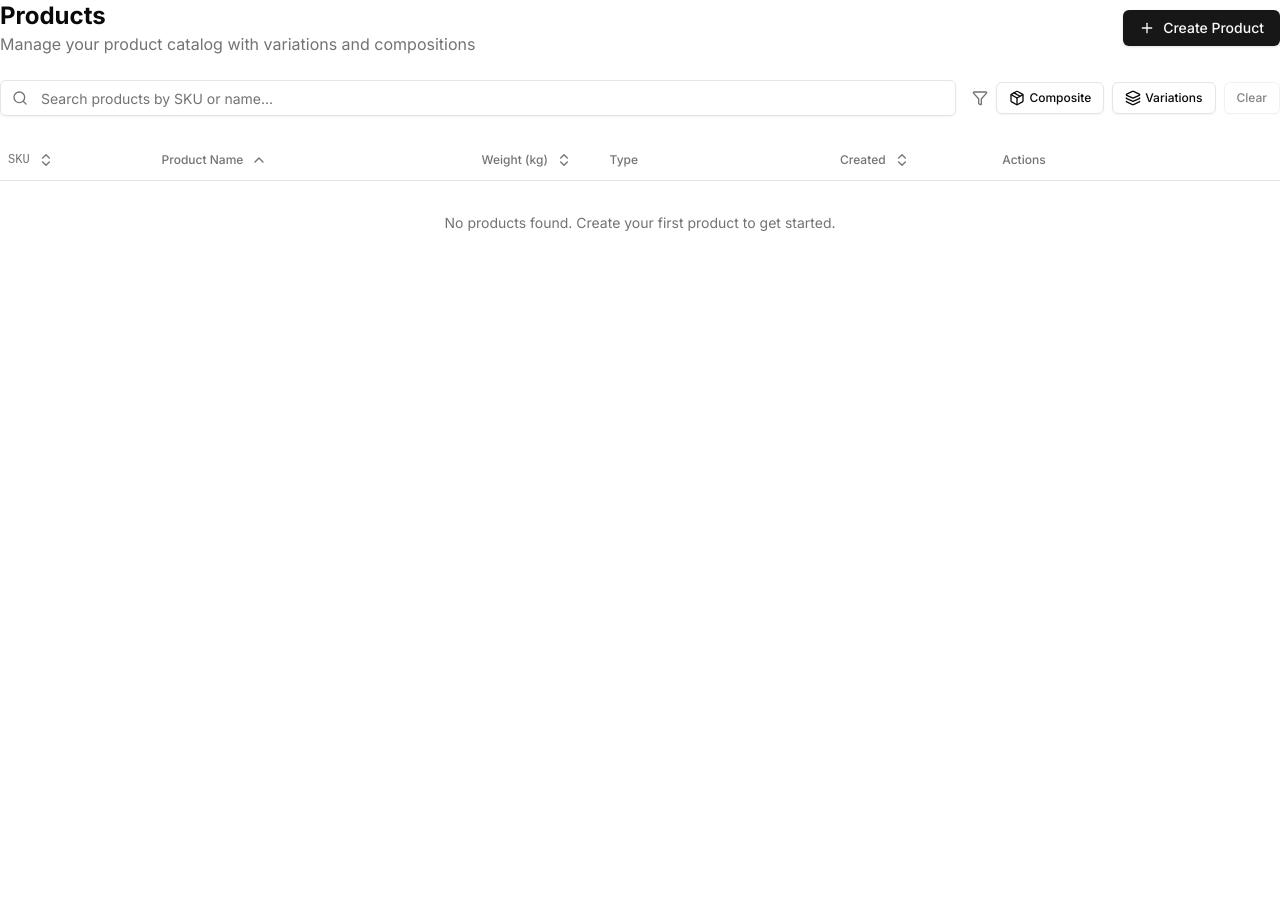
ProductManagement Integration › validates required fields in product form
// Open create modal
Click the button "Create Product". click: (1202, 28)
box: [1123, 10, 1279, 46]
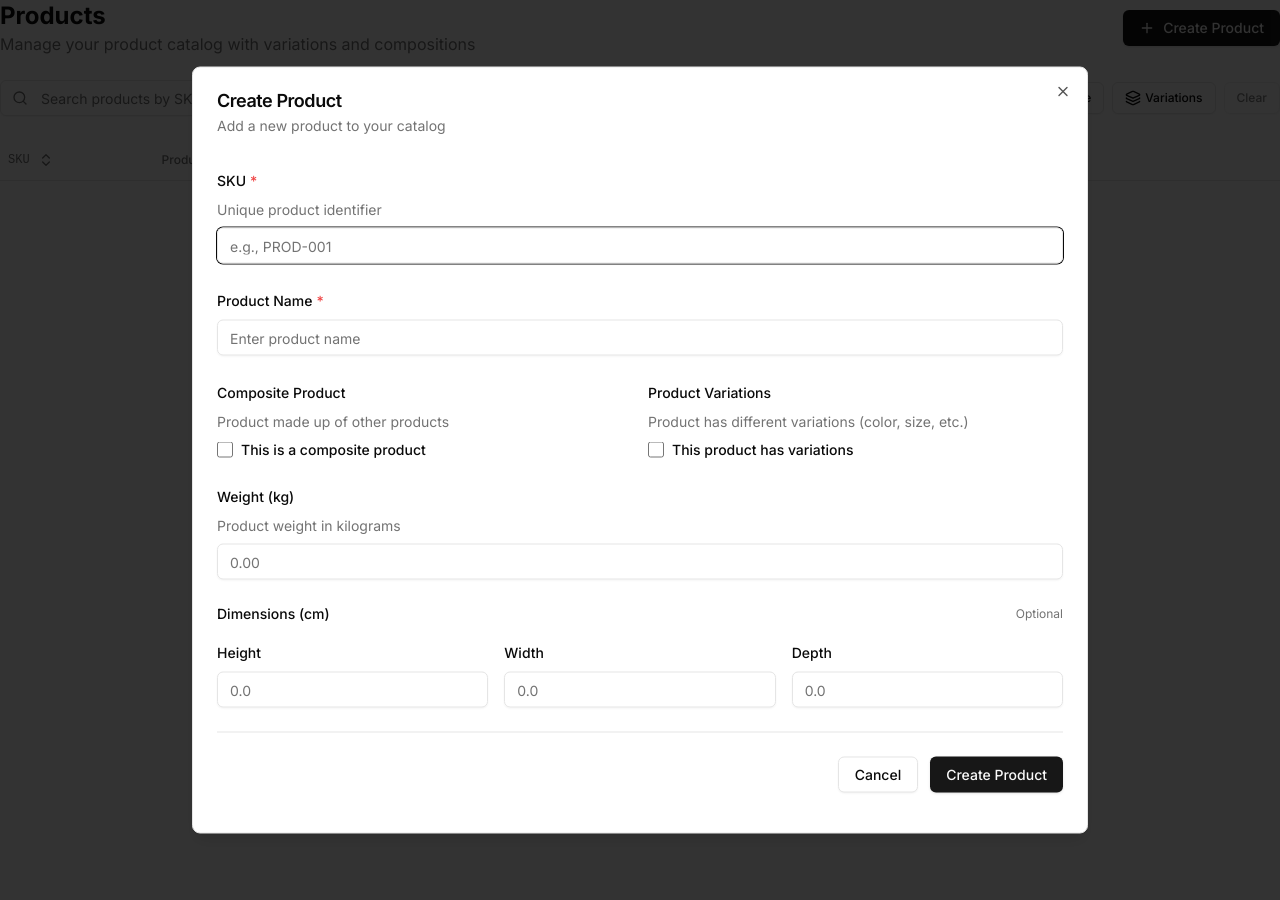
Click the button "Create Product". click: (997, 774)
box: [930, 756, 1063, 792]
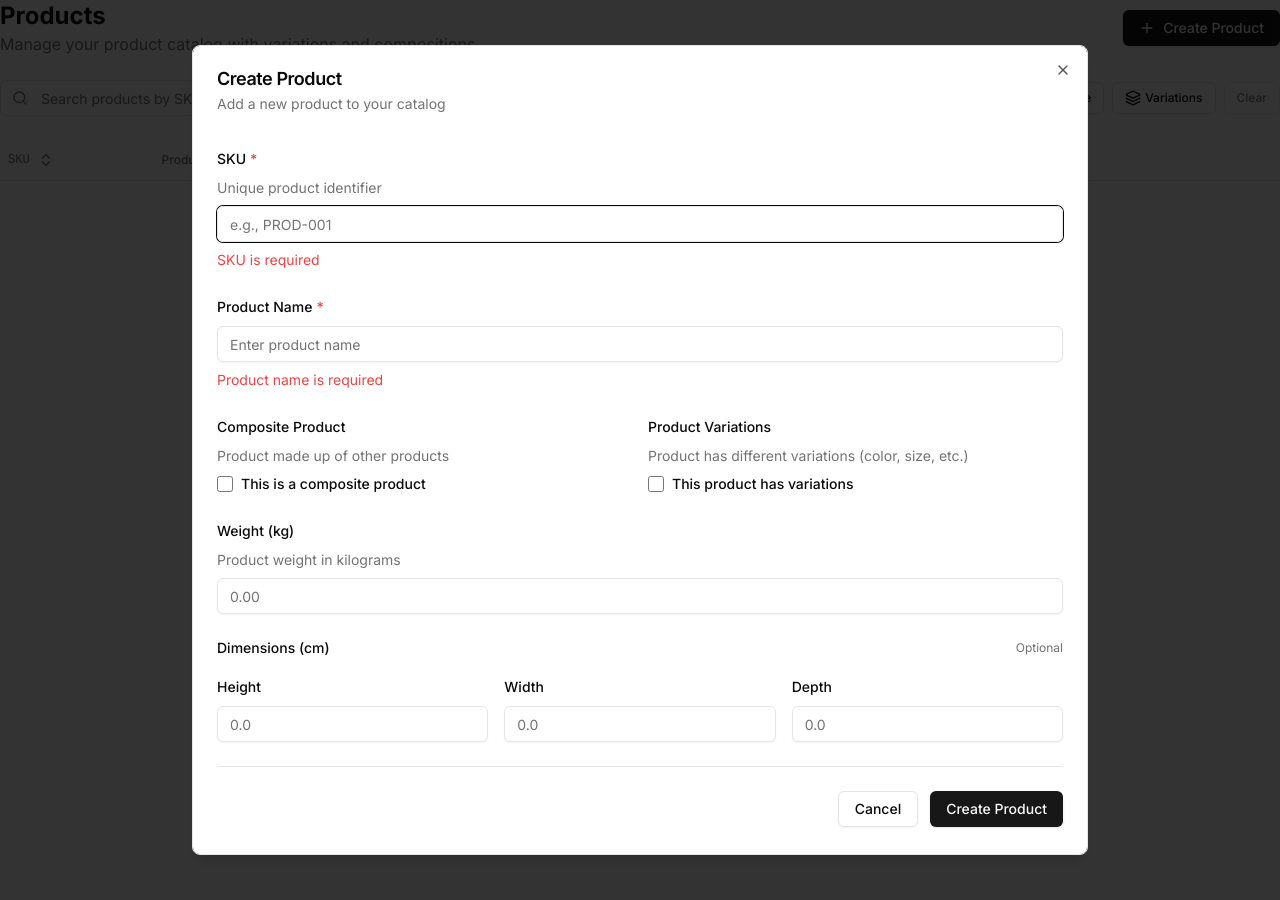
Expected: the text "SKU is required" is shown, [217, 251, 320, 268]
Expected: the text "Product name is required" is shown, [217, 371, 383, 388]
